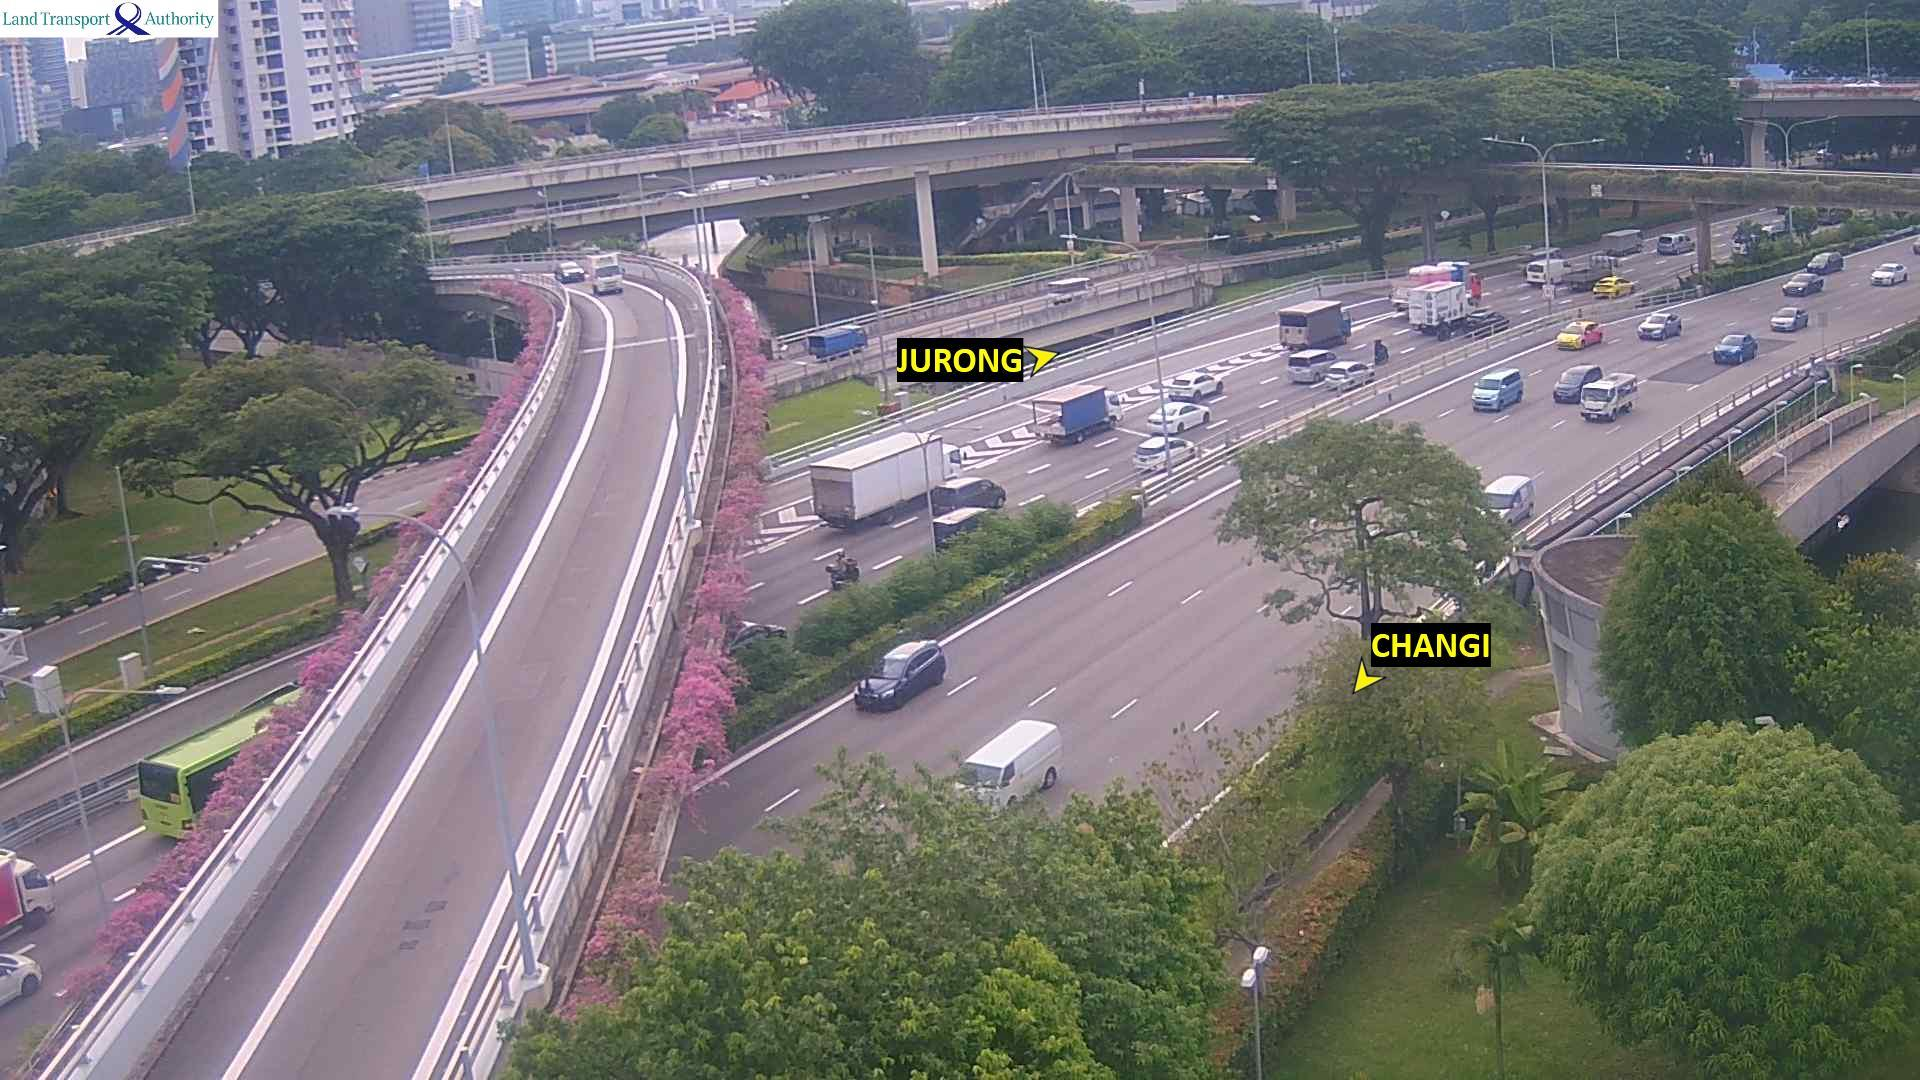incoming: (960, 760, 1013, 816), (855, 662, 909, 715), (1578, 382, 1623, 425), (1473, 378, 1507, 415), (1484, 491, 1522, 522), (587, 266, 626, 294), (1635, 315, 1672, 343), (1713, 336, 1746, 367), (1555, 324, 1590, 352), (1556, 371, 1586, 402), (1780, 274, 1815, 297), (1768, 310, 1801, 332), (1870, 265, 1896, 287), (562, 264, 585, 285), (1807, 255, 1832, 273)
